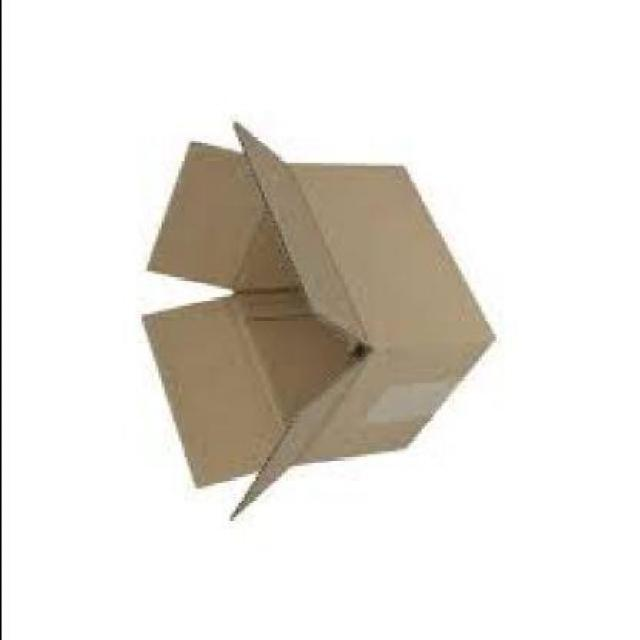box: (137, 126, 497, 523)
